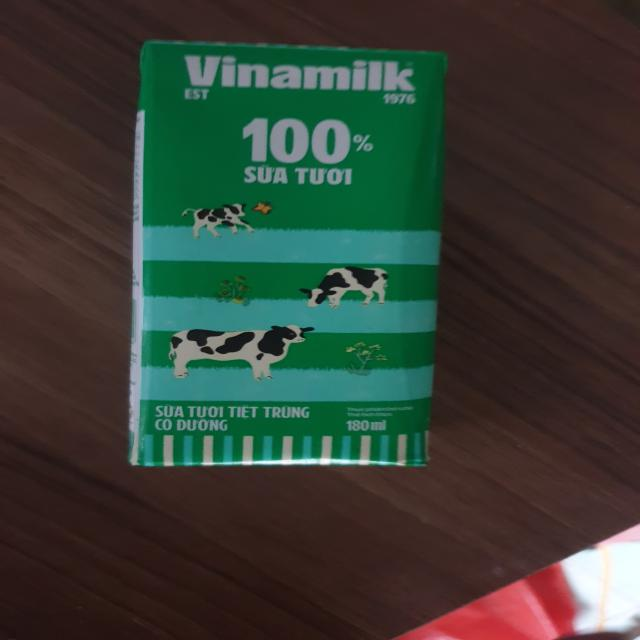Vina: (119, 37, 454, 473)
